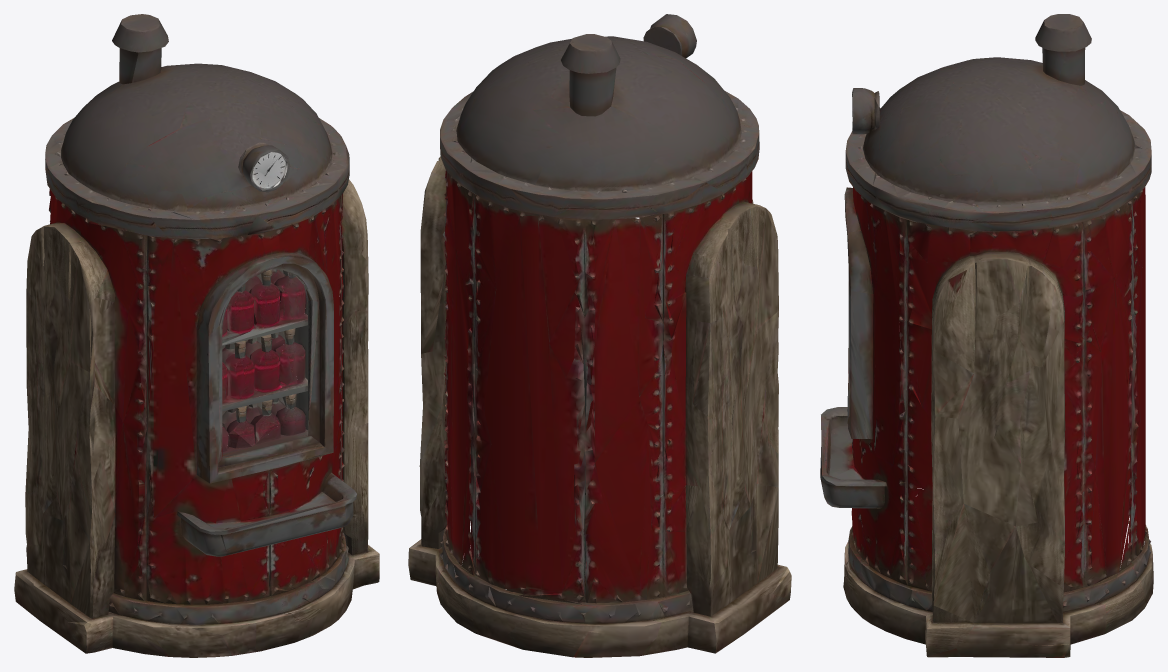
File: irongut.glb
The picture shows the model from 3 angles, left to right: view 1: azimuth 30°, elevation 25°; view 2: azimuth 150°, elevation 25°; view 3: azimuth 270°, elevation 25°; orthographic projection. The views are drawn at different scales.
Visible parts, largest first — view 1: body, glow; view 2: body; view 3: body.
Boxes of the visible parts, x1,y1,x2,y2 form: body: (14,14,379,657); glow: (222,282,305,450); body: (408,14,791,657); body: (820,14,1153,657).
Size of the model in its own units: 1.12 by 2 by 1.09.
Materials: 2 (2 with a texture image).
